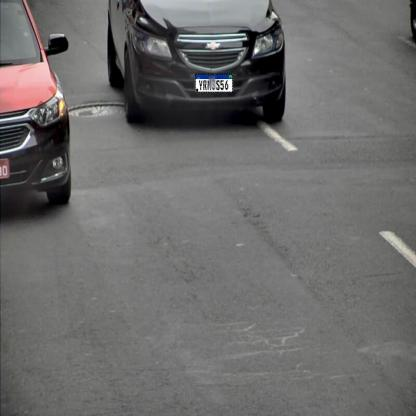PlacaM: (195, 73, 233, 93)
